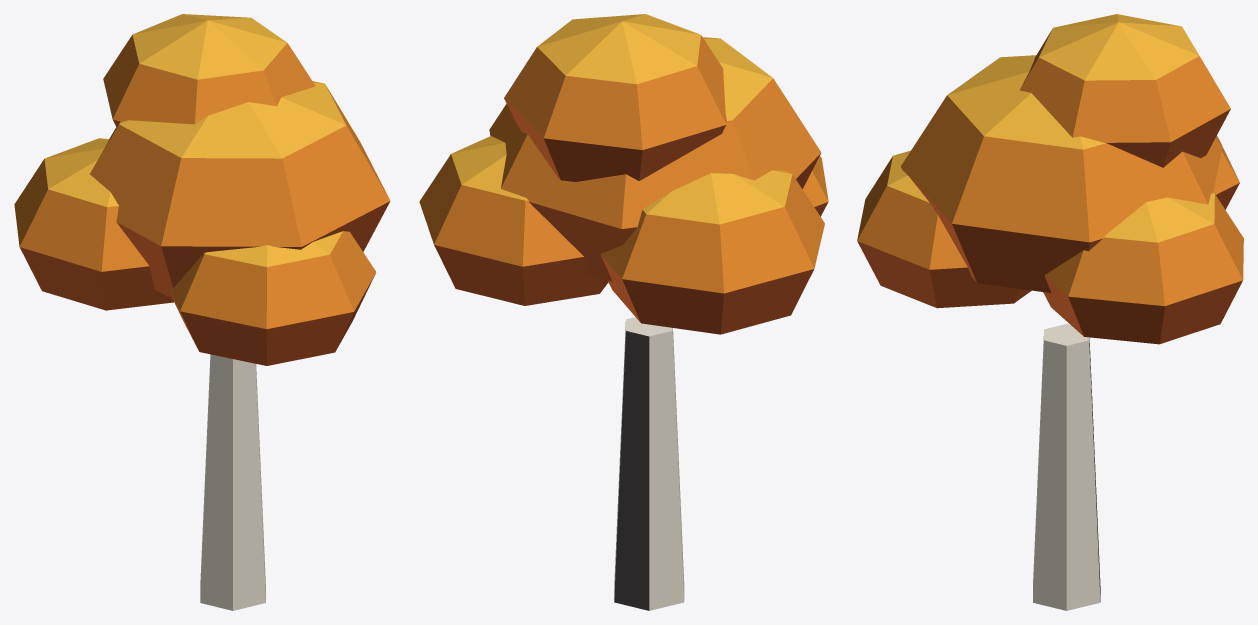
Rendered from tree_oak_fall.glb.
The picture shows the model from 3 angles, left to right: view 1: azimuth 30°, elevation 25°; view 2: azimuth 150°, elevation 25°; view 3: azimuth 270°, elevation 25°; orthographic projection. The views are drawn at different scales.
Visible parts, largest first — view 1: tree_oak_fall; view 2: tree_oak_fall; view 3: tree_oak_fall.
Boxes of the visible parts, x1,y1,x2,y2 form: tree_oak_fall: (14,14,390,610); tree_oak_fall: (419,14,828,610); tree_oak_fall: (857,14,1243,610).
Bounding box in the file's own units: 0.8038 × 1.21 × 0.7427.
1 material, 1 textured.
